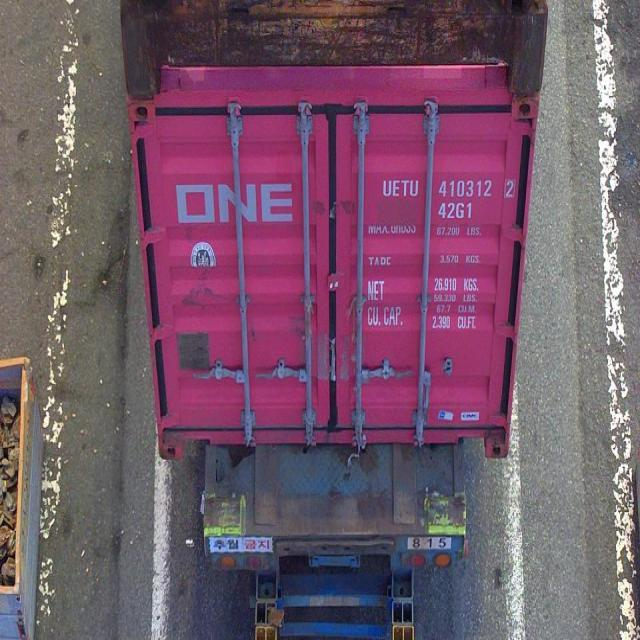ISO: (439, 202, 472, 220)
container_number: (381, 178, 513, 200)
